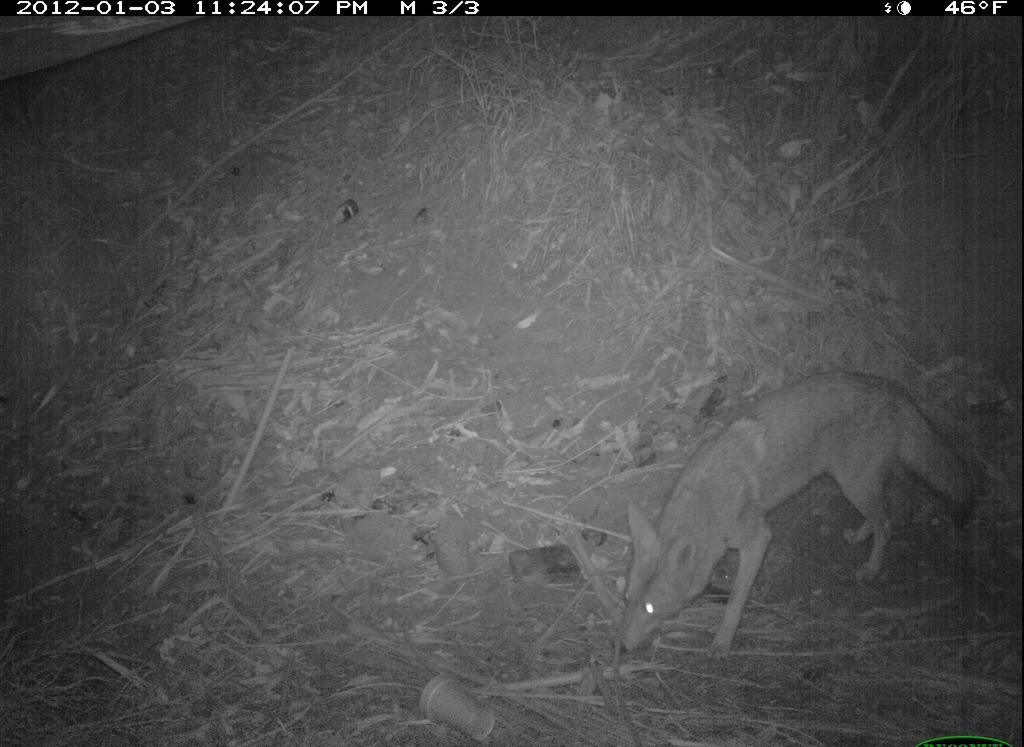coyote: (593, 367, 987, 678)
